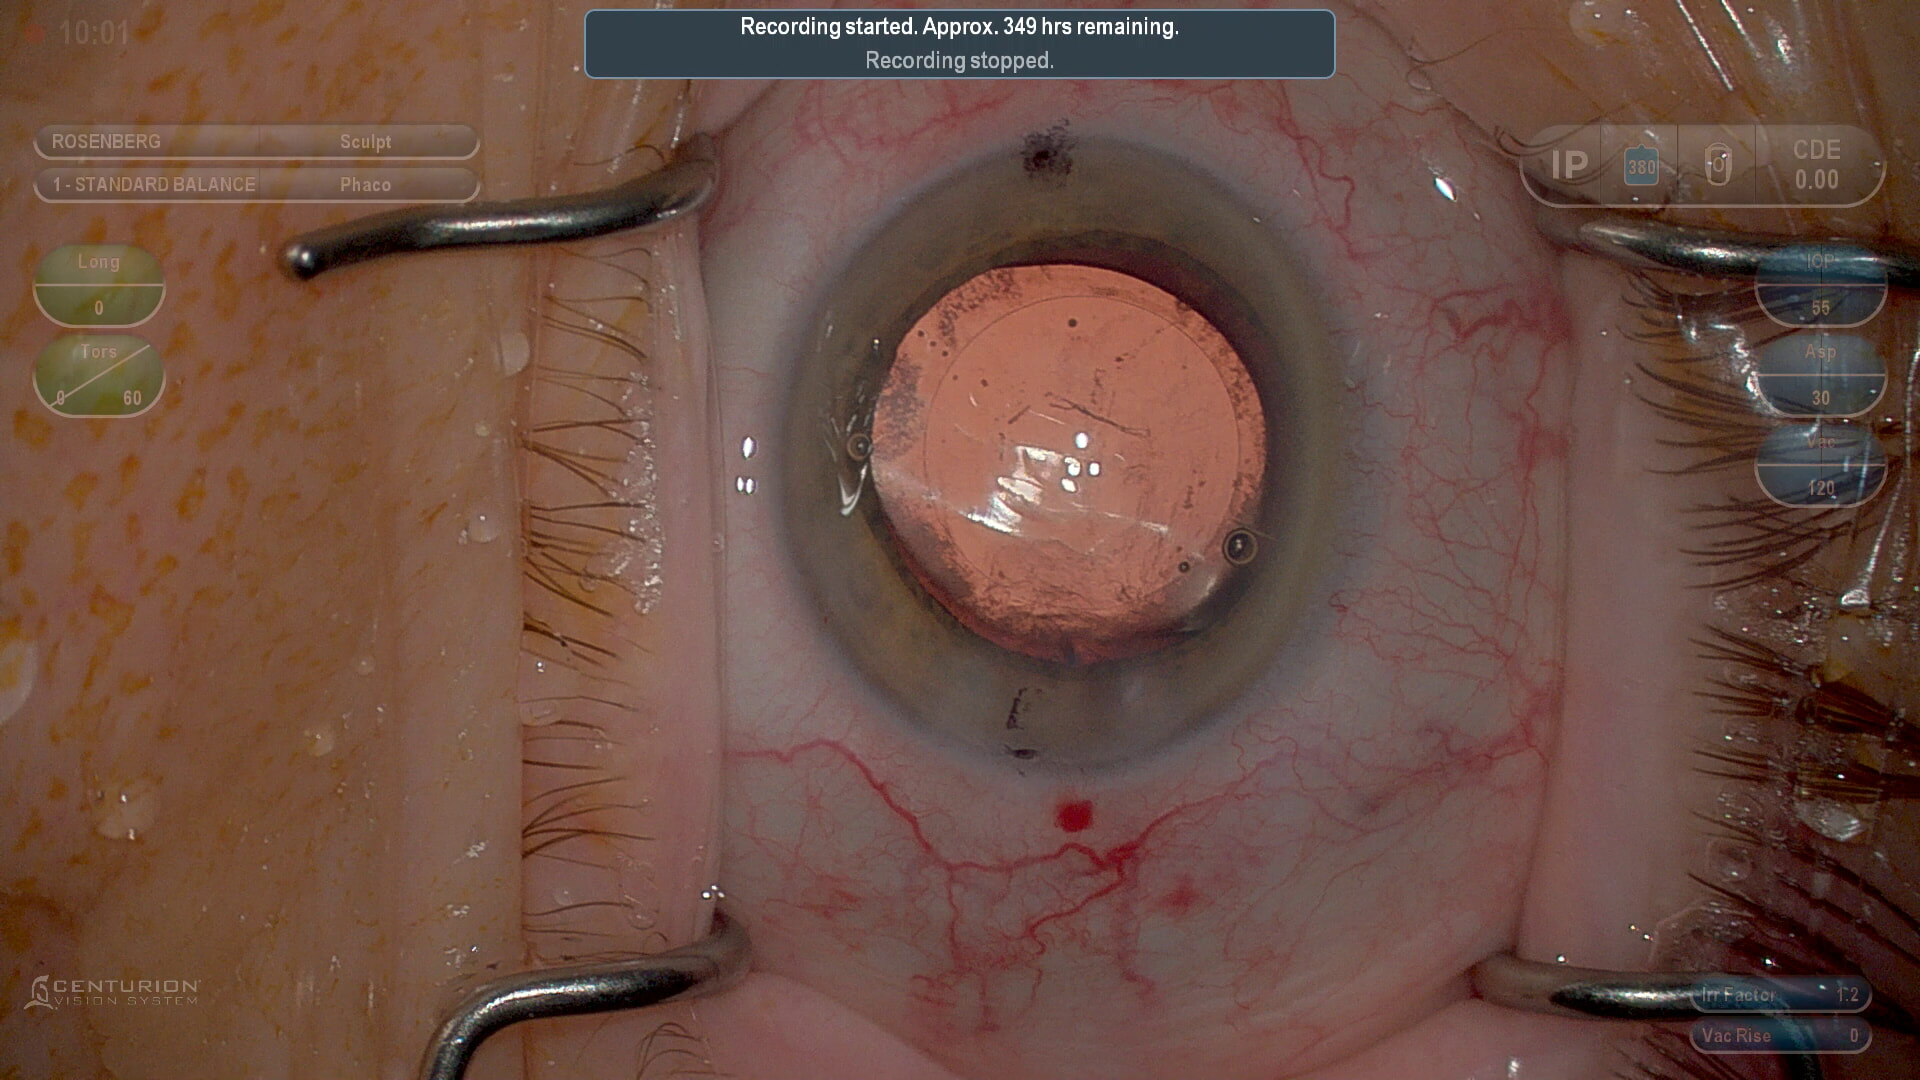iris: (786, 143, 1340, 765)
pupil: (850, 233, 1289, 672)
